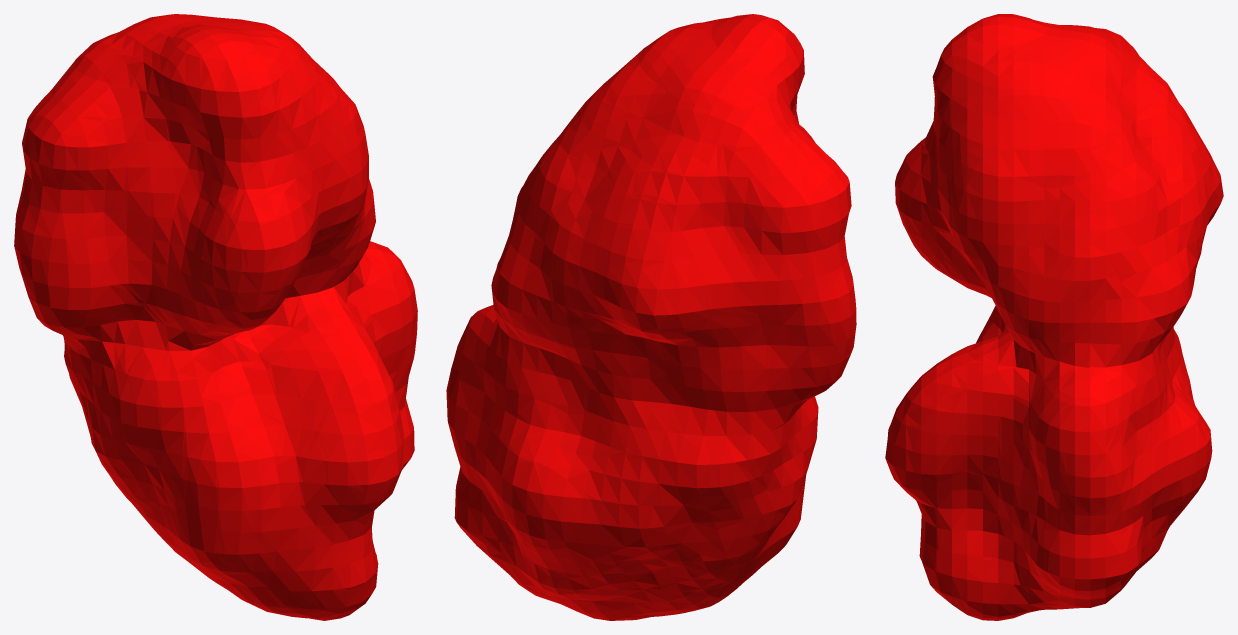
The model's file is rnk_coarse.dae.
The picture shows the model from 3 angles, left to right: view 1: azimuth 30°, elevation 25°; view 2: azimuth 150°, elevation 25°; view 3: azimuth 270°, elevation 25°; orthographic projection. The views are drawn at different scales.
Parts seen in each view (by area): view 1: rnk; view 2: rnk; view 3: rnk.
Part boxes in pixels (x1=…): rnk: x1=14, y1=14, x2=417, y2=620; rnk: x1=446, y1=14, x2=856, y2=620; rnk: x1=885, y1=14, x2=1223, y2=620.
Size of the model in its own units: 49.47 by 72.39 by 40.48.
